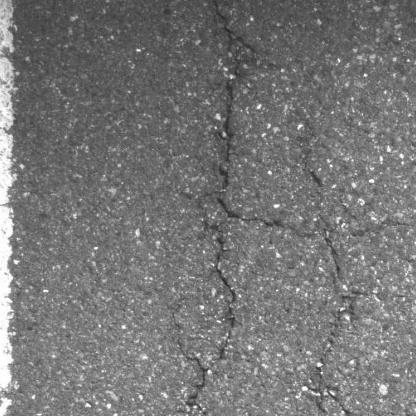Cracks: (200, 195, 287, 365), (209, 0, 260, 192), (303, 355, 368, 416), (174, 334, 214, 416), (319, 227, 345, 281)
